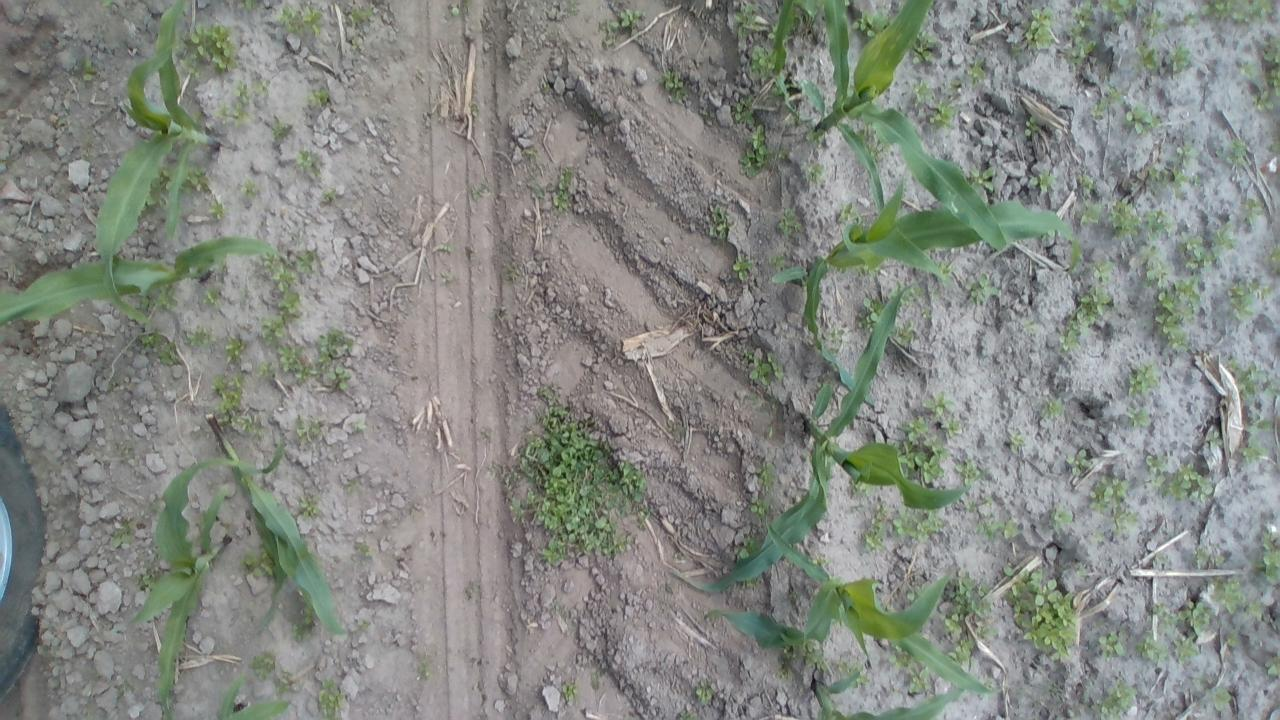Maize: (672, 281, 960, 599), (772, 160, 1093, 386), (795, 0, 1013, 255), (701, 543, 992, 675), (101, 0, 215, 319), (199, 422, 358, 642), (116, 439, 238, 720), (0, 243, 285, 327), (809, 662, 965, 720), (222, 666, 288, 720)
Weeds: (508, 394, 655, 569), (1009, 567, 1078, 661), (1056, 284, 1116, 354), (1154, 276, 1202, 353), (180, 22, 240, 75), (742, 390, 787, 443), (948, 574, 994, 623), (1186, 670, 1236, 714), (740, 124, 777, 178), (1226, 278, 1272, 320), (1172, 140, 1202, 200), (1086, 81, 1128, 123), (913, 432, 948, 482), (1096, 680, 1138, 718), (1201, 0, 1267, 24), (1167, 466, 1213, 500), (286, 591, 316, 643), (969, 513, 1022, 542), (210, 374, 244, 419), (140, 331, 182, 367), (1174, 229, 1209, 272), (262, 111, 297, 154), (705, 198, 737, 244), (1204, 220, 1236, 264), (893, 509, 941, 538), (746, 348, 782, 386), (318, 328, 352, 368), (1234, 434, 1276, 466), (1228, 360, 1266, 395), (1088, 476, 1128, 509), (1124, 362, 1160, 398), (1064, 0, 1098, 38), (266, 254, 296, 296), (863, 500, 888, 550), (1108, 198, 1138, 239), (1024, 8, 1054, 48), (1254, 532, 1276, 586), (1142, 244, 1170, 286), (318, 679, 347, 719), (244, 546, 280, 578), (1143, 448, 1168, 492), (837, 656, 870, 688), (1212, 577, 1244, 610), (130, 554, 157, 592), (1042, 676, 1069, 714), (752, 458, 782, 491), (802, 643, 832, 676), (854, 296, 884, 329), (499, 250, 526, 286), (891, 318, 919, 352), (234, 412, 268, 440), (1182, 602, 1210, 636), (278, 344, 306, 378), (346, 0, 381, 27), (553, 163, 572, 212), (111, 438, 142, 468), (731, 93, 759, 126), (1125, 106, 1158, 134), (952, 454, 981, 485), (902, 667, 934, 695), (1001, 426, 1029, 458), (236, 174, 264, 206), (596, 14, 620, 51), (744, 495, 778, 521), (184, 324, 218, 350), (854, 11, 888, 37), (522, 166, 546, 202), (884, 645, 920, 669), (412, 646, 436, 682), (249, 650, 276, 682), (660, 69, 686, 102), (965, 52, 990, 86), (968, 275, 998, 303), (664, 414, 691, 445), (460, 576, 486, 608), (972, 620, 1006, 644), (950, 634, 974, 668), (1096, 630, 1124, 659), (928, 101, 956, 130), (899, 416, 928, 444), (1250, 84, 1276, 115), (1203, 424, 1229, 455), (1262, 236, 1280, 280), (734, 2, 758, 35), (215, 102, 248, 126), (1014, 309, 1042, 337), (800, 157, 827, 186), (349, 538, 376, 567), (114, 676, 140, 706), (251, 71, 274, 104), (1066, 448, 1092, 477), (108, 520, 134, 549), (440, 0, 470, 25), (1036, 396, 1066, 421), (276, 2, 298, 36), (1235, 54, 1261, 82), (1070, 37, 1096, 65), (258, 316, 284, 344), (1261, 646, 1280, 684), (1246, 410, 1276, 434), (1143, 210, 1173, 234), (1152, 600, 1176, 630), (1222, 138, 1249, 164), (470, 176, 495, 204), (692, 674, 716, 703), (750, 47, 774, 76), (940, 416, 966, 442), (1092, 258, 1118, 284), (1141, 10, 1167, 36), (968, 166, 994, 192), (558, 675, 579, 707), (778, 207, 802, 235), (914, 36, 936, 66), (928, 392, 954, 417), (1144, 158, 1168, 185), (298, 7, 322, 34), (732, 254, 755, 282), (1104, 0, 1136, 20), (802, 124, 826, 150), (1075, 201, 1101, 225), (1113, 510, 1140, 533), (204, 198, 226, 226), (1240, 196, 1262, 224), (1194, 546, 1222, 568), (1136, 637, 1160, 662), (223, 336, 246, 362), (279, 292, 302, 318), (1138, 42, 1160, 69), (588, 664, 609, 692), (866, 140, 890, 164), (1174, 637, 1198, 661), (1074, 172, 1100, 194), (1128, 403, 1150, 429), (1169, 44, 1190, 71), (296, 418, 320, 441), (436, 238, 461, 260), (201, 284, 226, 306), (697, 102, 718, 128), (736, 537, 759, 560), (1243, 596, 1265, 620), (186, 165, 207, 190), (1224, 622, 1242, 650), (963, 492, 991, 510), (438, 266, 462, 287), (1050, 505, 1074, 526), (339, 474, 361, 496), (347, 33, 368, 56), (1267, 62, 1280, 99), (1020, 114, 1040, 138), (1032, 172, 1056, 192), (152, 292, 176, 312), (904, 288, 925, 310), (298, 497, 320, 518), (475, 422, 499, 441), (328, 369, 349, 390), (520, 142, 540, 164), (618, 8, 640, 28), (306, 88, 329, 107), (464, 96, 482, 120), (538, 72, 556, 96), (582, 105, 600, 129), (318, 182, 336, 206), (296, 150, 314, 174), (1262, 35, 1276, 65), (275, 674, 294, 696), (258, 357, 276, 380), (234, 80, 252, 103), (904, 580, 927, 598), (920, 306, 940, 326), (348, 416, 369, 435), (764, 250, 786, 268), (1008, 38, 1024, 61), (1264, 376, 1280, 399), (488, 306, 508, 324), (914, 82, 932, 102), (298, 250, 314, 272), (675, 705, 698, 720), (547, 596, 566, 614), (563, 0, 581, 18), (838, 204, 856, 222), (938, 259, 957, 276), (356, 616, 376, 632), (102, 376, 118, 395), (1183, 8, 1199, 26), (826, 324, 844, 340), (244, 0, 262, 11), (1269, 138, 1280, 155), (778, 147, 791, 161), (947, 78, 961, 90)
